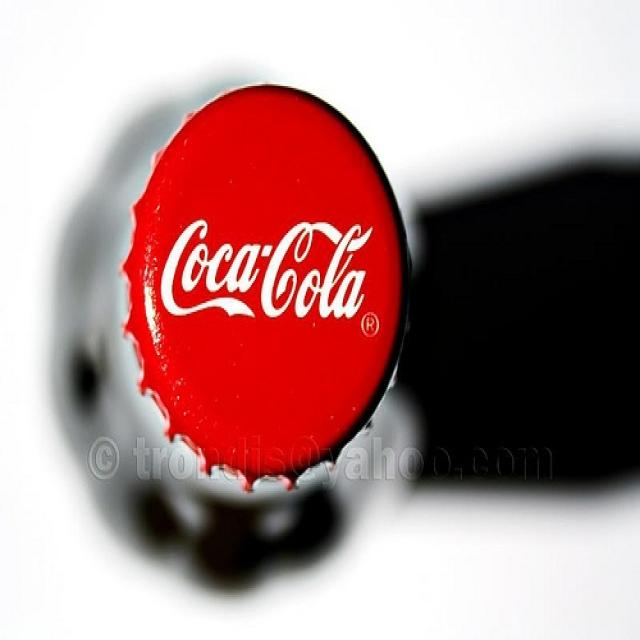cocacola: (155, 206, 383, 337)
